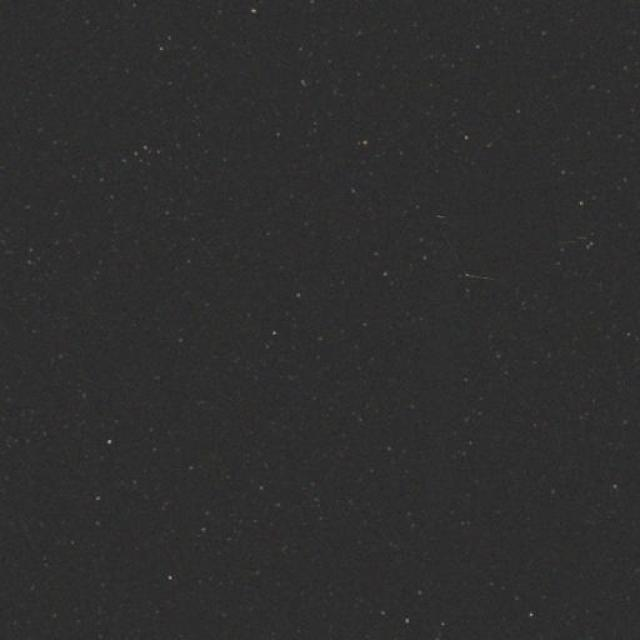earth_observation_sat_1: (402, 172, 580, 324)
